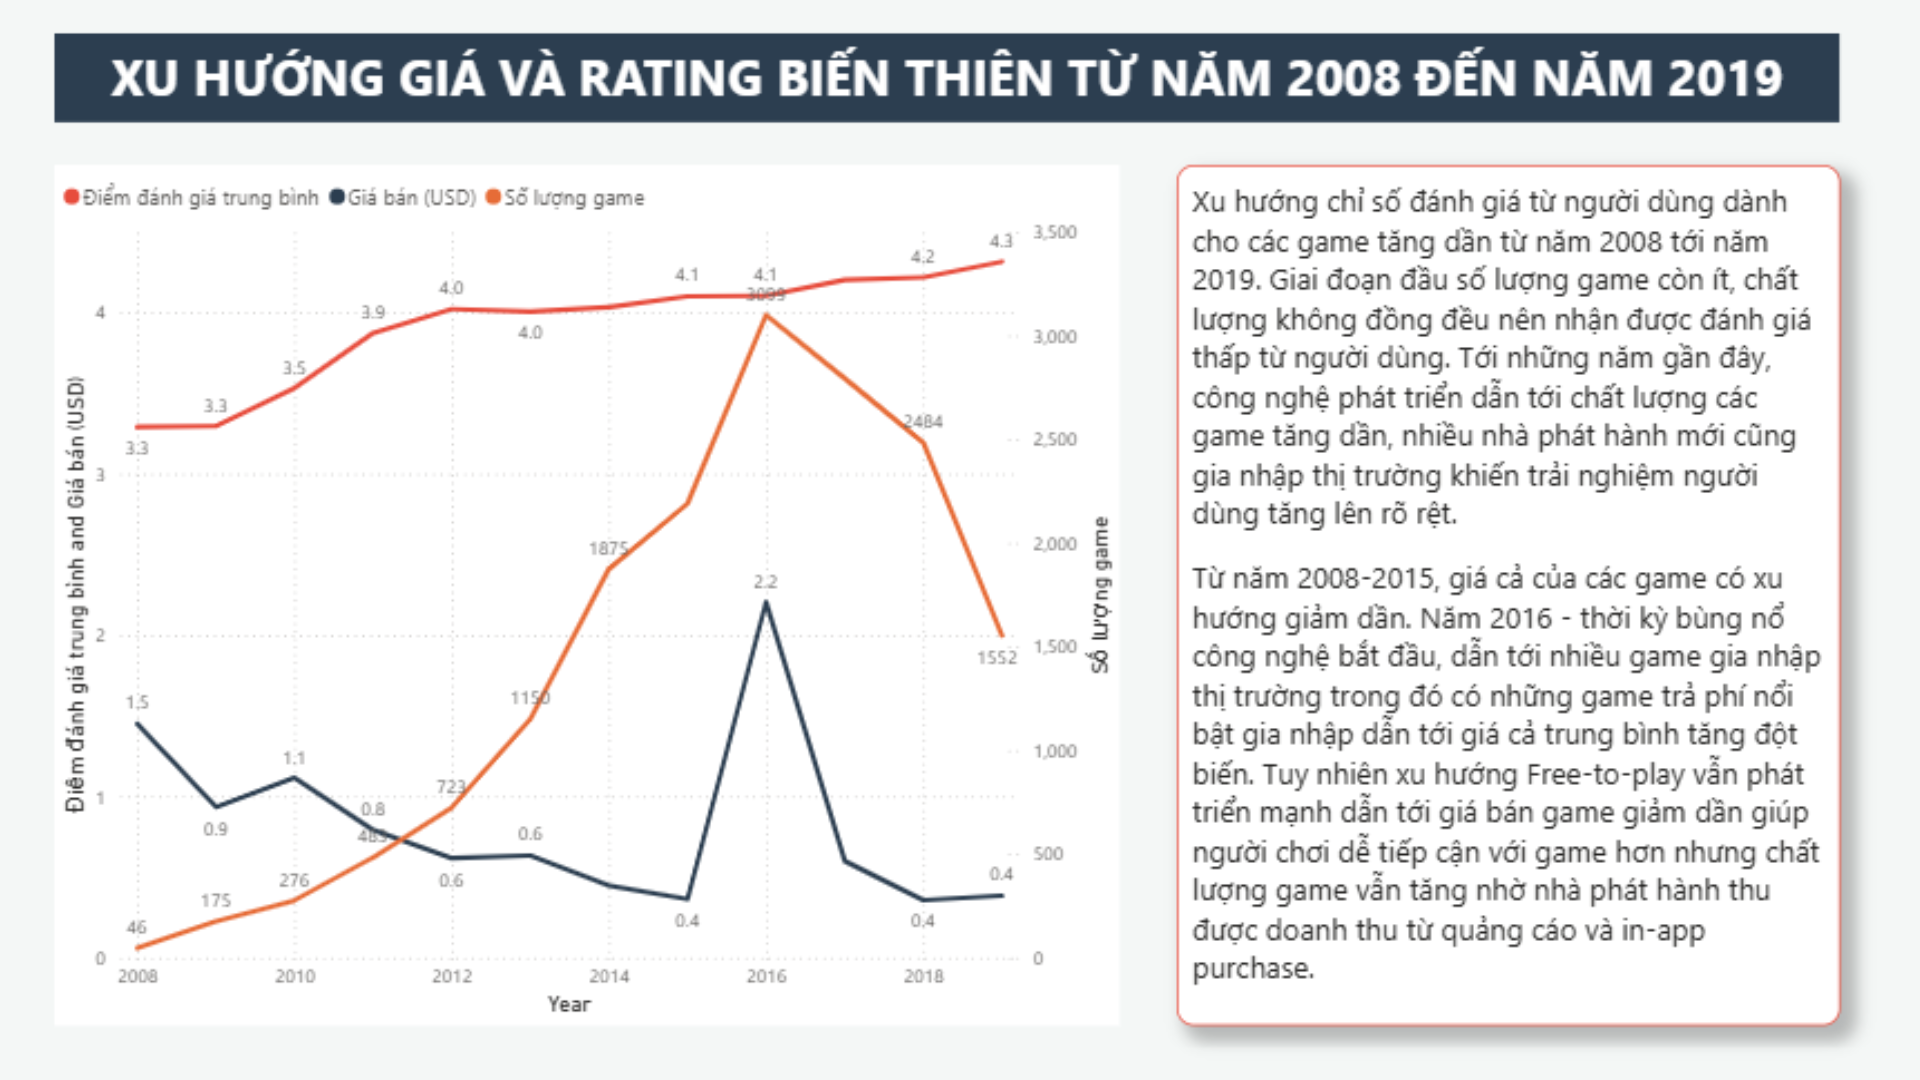

This screenshot's page, from the dashboard's own definition file:
{"tool":"powerbi","page":{"name":"Price&Rating Trend Monitoring","canvas":[1280,720],"ordinal":3},"visuals":[{"type":"lineChart","fields":{"Category":["App Store Games.Release Date.Variation.Date Hierarchy.Year"],"Y":["Avg(App Store Games.Average User Rating)","Avg(App Store Games.Price per App (USD))"],"Y2":["CountNonNull(App Store Games.App ID)"]},"box":[68.3,106.7,681.7,551.7],"z":0},{"type":"textbox","box":[68.3,23.3,1143.3,56.7],"z":1},{"type":"textbox","box":[786.7,106.7,425,551.7],"z":2}]}

Visuals, with their boxes in screenshot pixels (x1, y1, x2, y2), scaled from the page's 1280x720 canvas onto the 1920x1080 screenshot:
lineChart - App Store Games.Release Date.Variation.Date Hierarchy.Year x Avg(App Store Games.Average User Rating): 102/160/1125/988
textbox: 102/35/1817/120
textbox: 1180/160/1818/988
